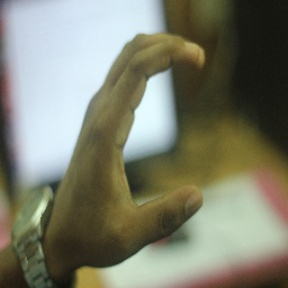C: (75, 29, 209, 232)
